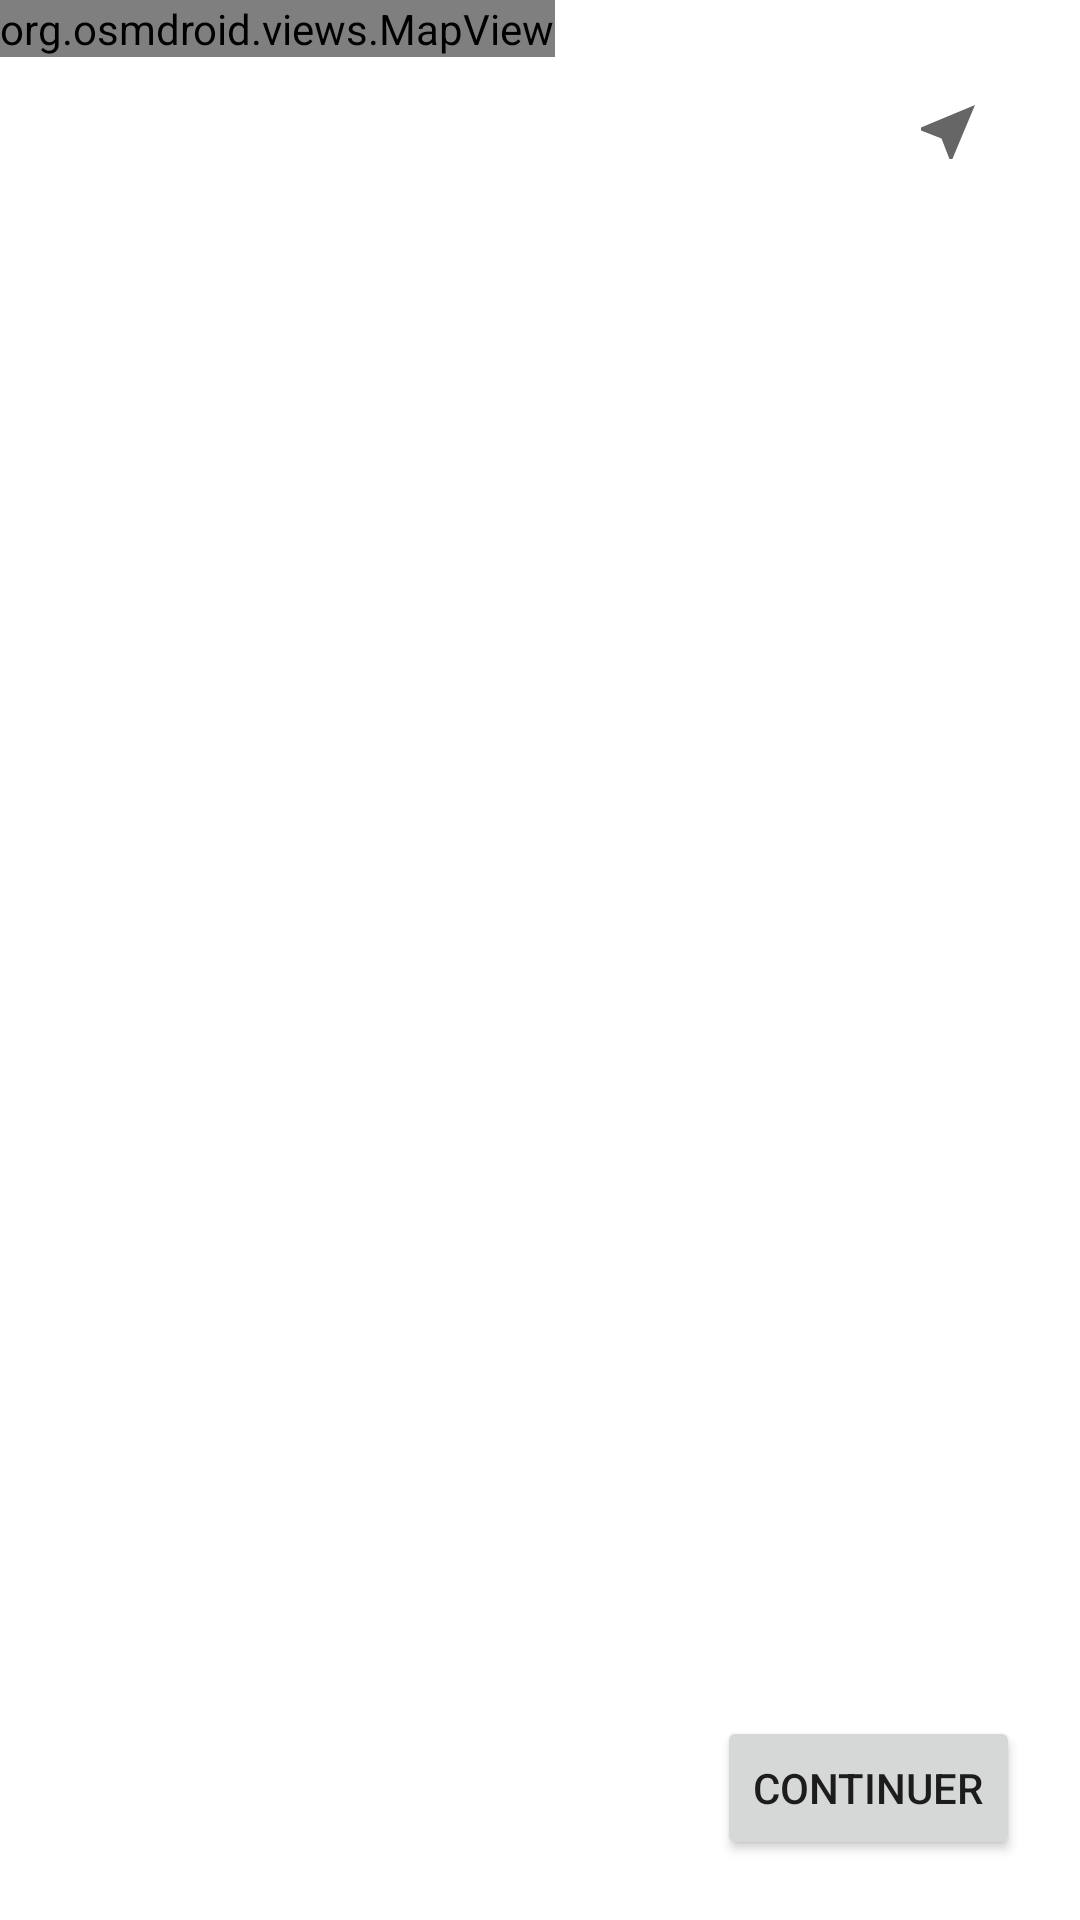

Screen size 1080px x 1920px. Icon name, then its box in pixels as BBox(x1, y1, x2, y2):
near me: BBox(921, 105, 975, 159)
